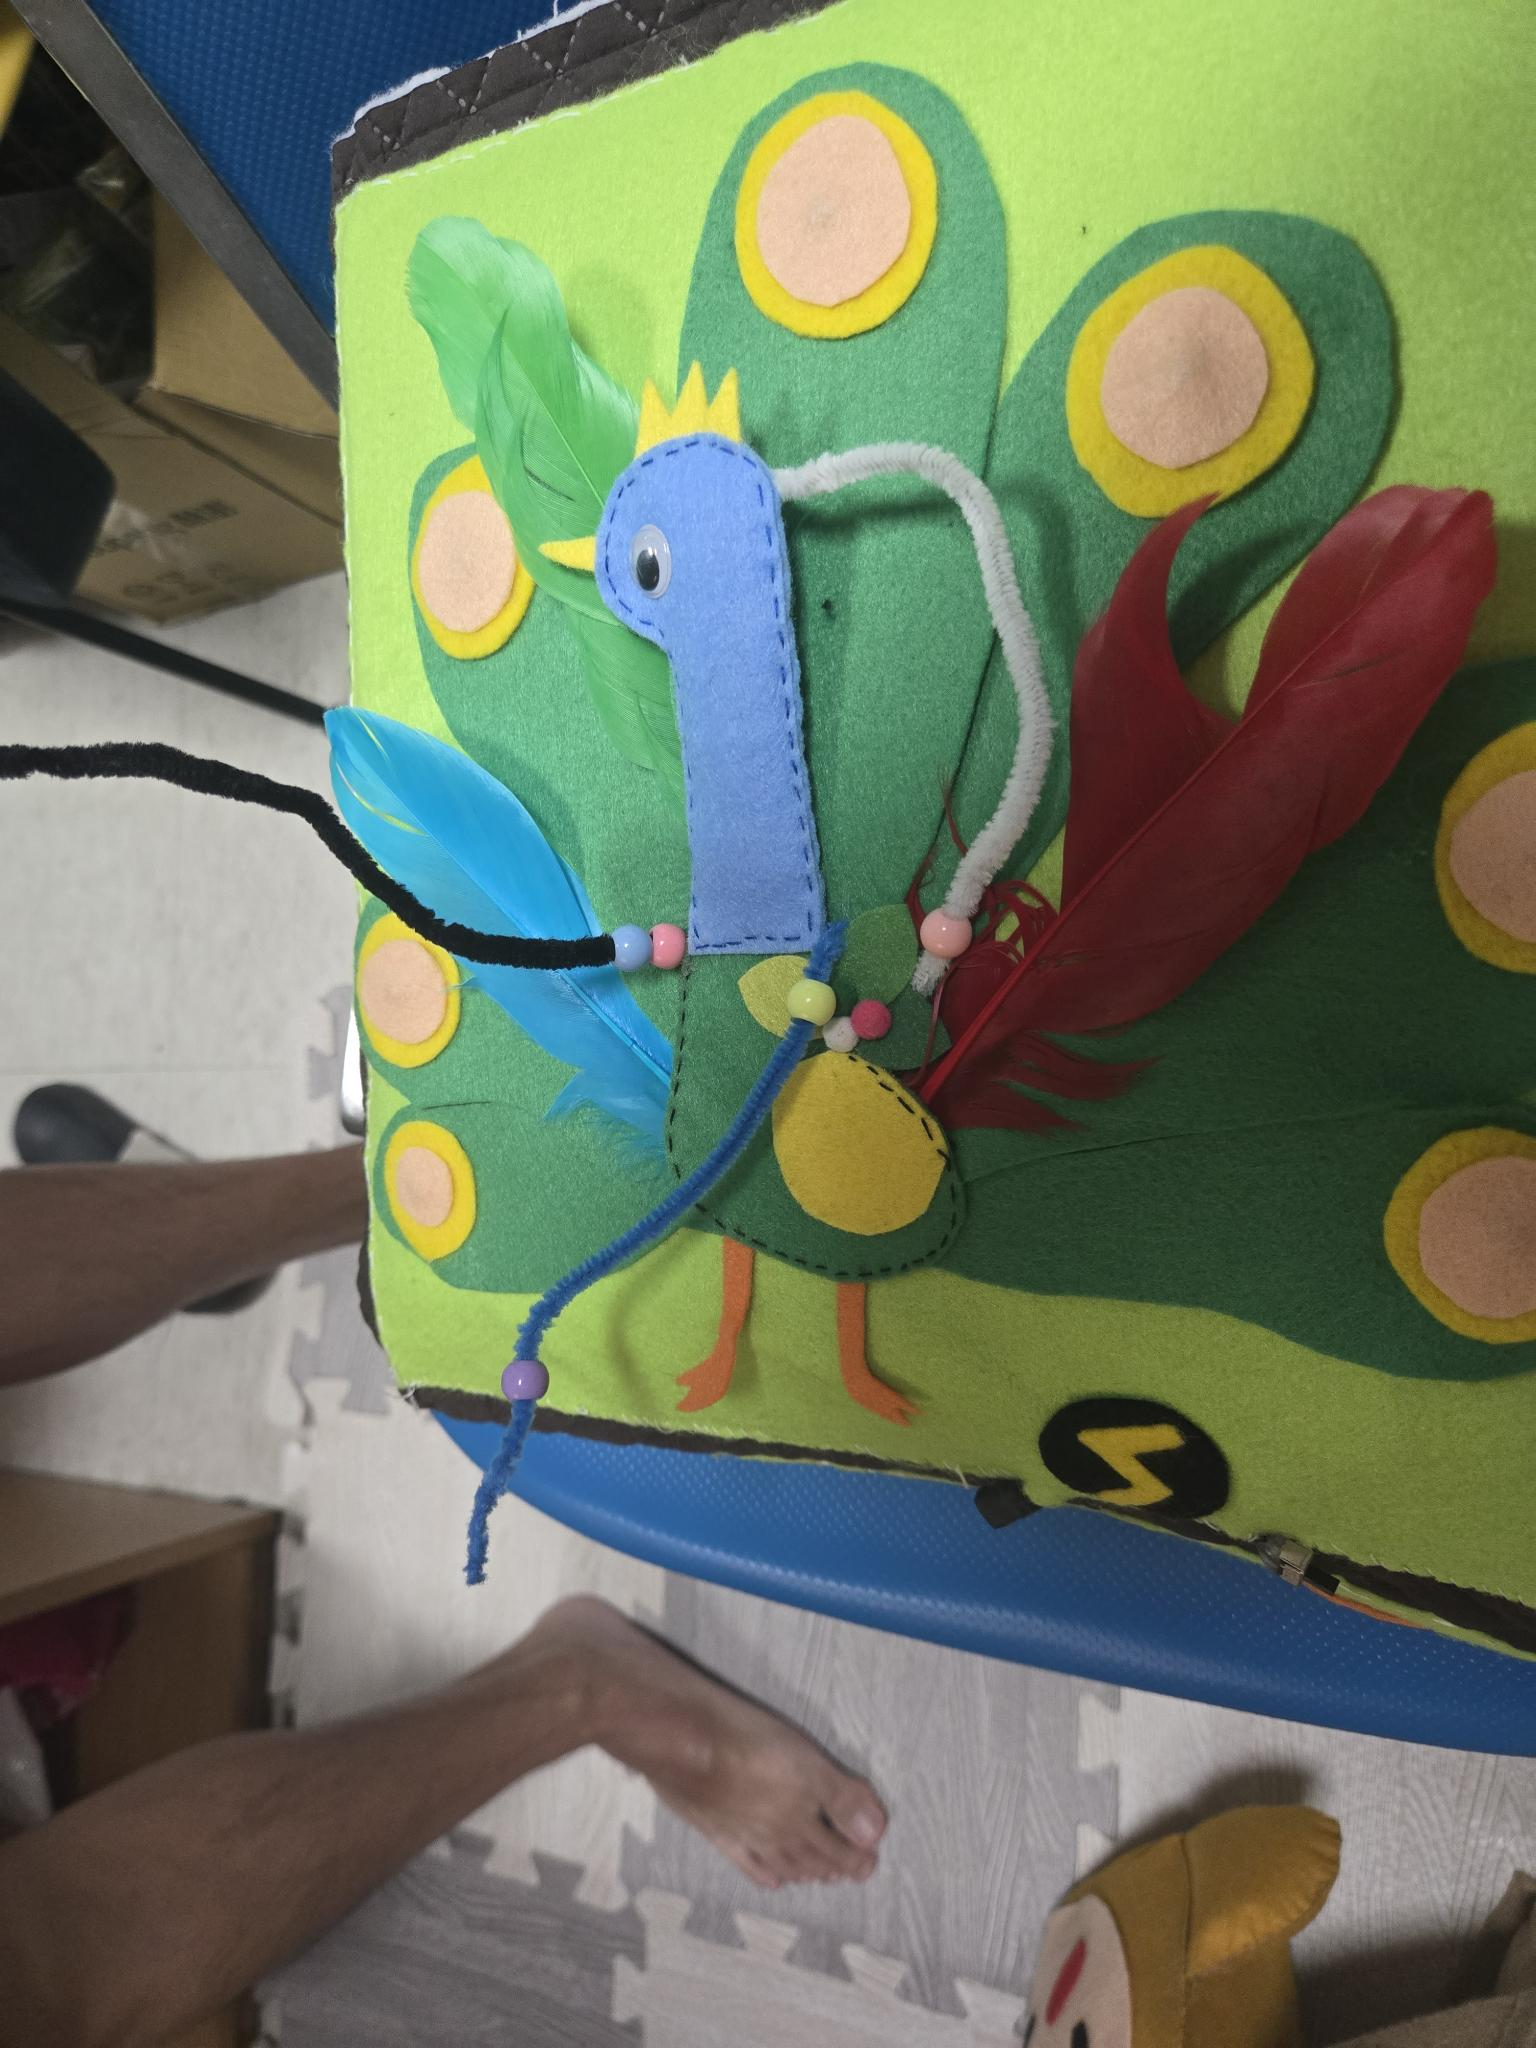bead: (774, 958, 850, 1047), (907, 887, 981, 972), (584, 903, 649, 977), (645, 903, 699, 990), (497, 1348, 552, 1419)
